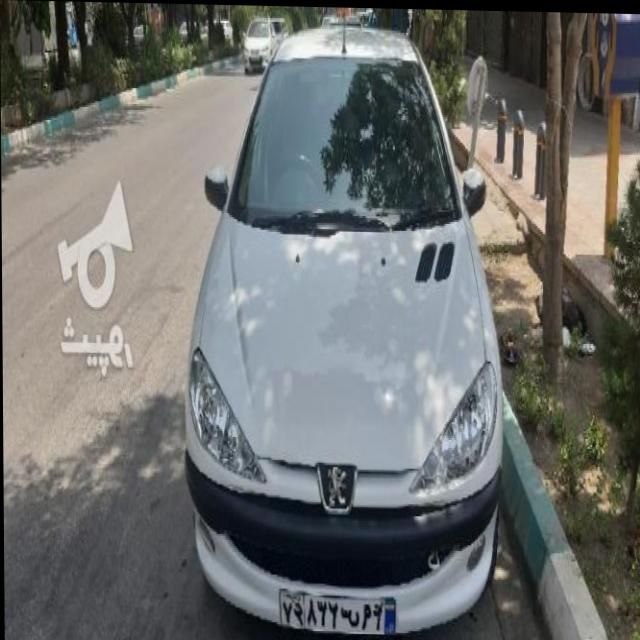licence: (277, 588, 397, 627)
